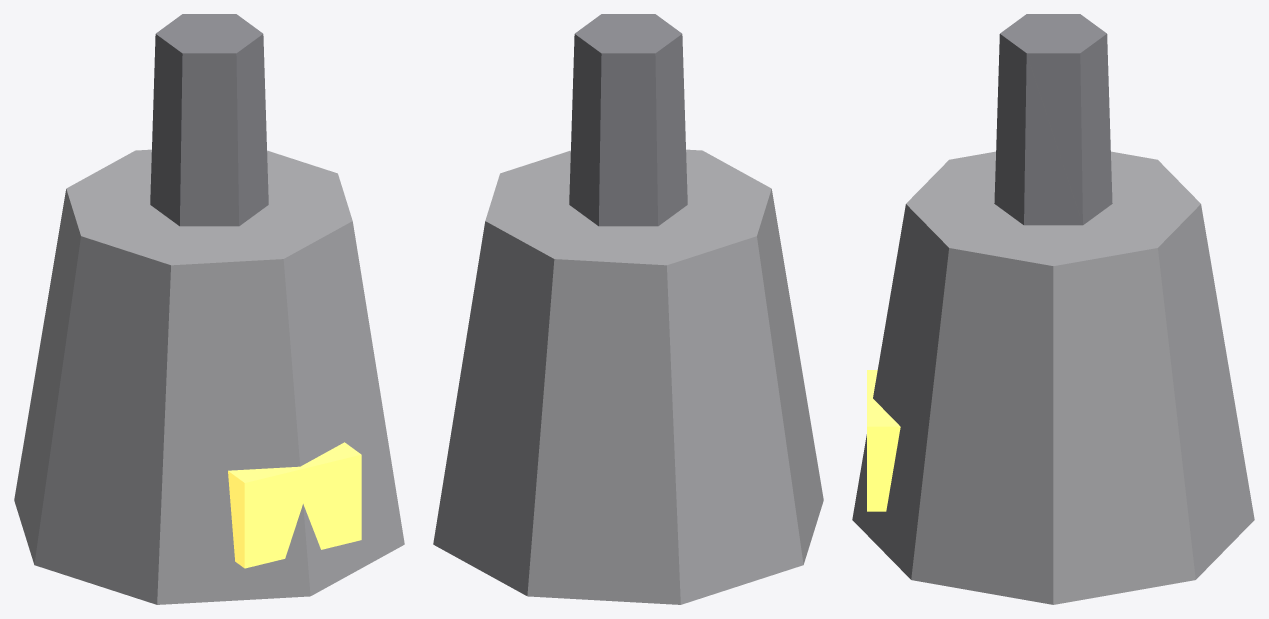
The model's file is furnace.glb.
3 views of the same model, side by side, from view 1: azimuth 30°, elevation 25°; view 2: azimuth 150°, elevation 25°; view 3: azimuth 270°, elevation 25° (orthographic).
Parts seen in each view (by area): view 1: furnace; view 2: furnace; view 3: furnace.
Part boxes in pixels (left/top/right/bottom): furnace: left=14, top=14, right=404, bottom=604; furnace: left=433, top=14, right=823, bottom=604; furnace: left=852, top=14, right=1254, bottom=604.
Size of the model in its own units: 1.5 by 2 by 1.5.
